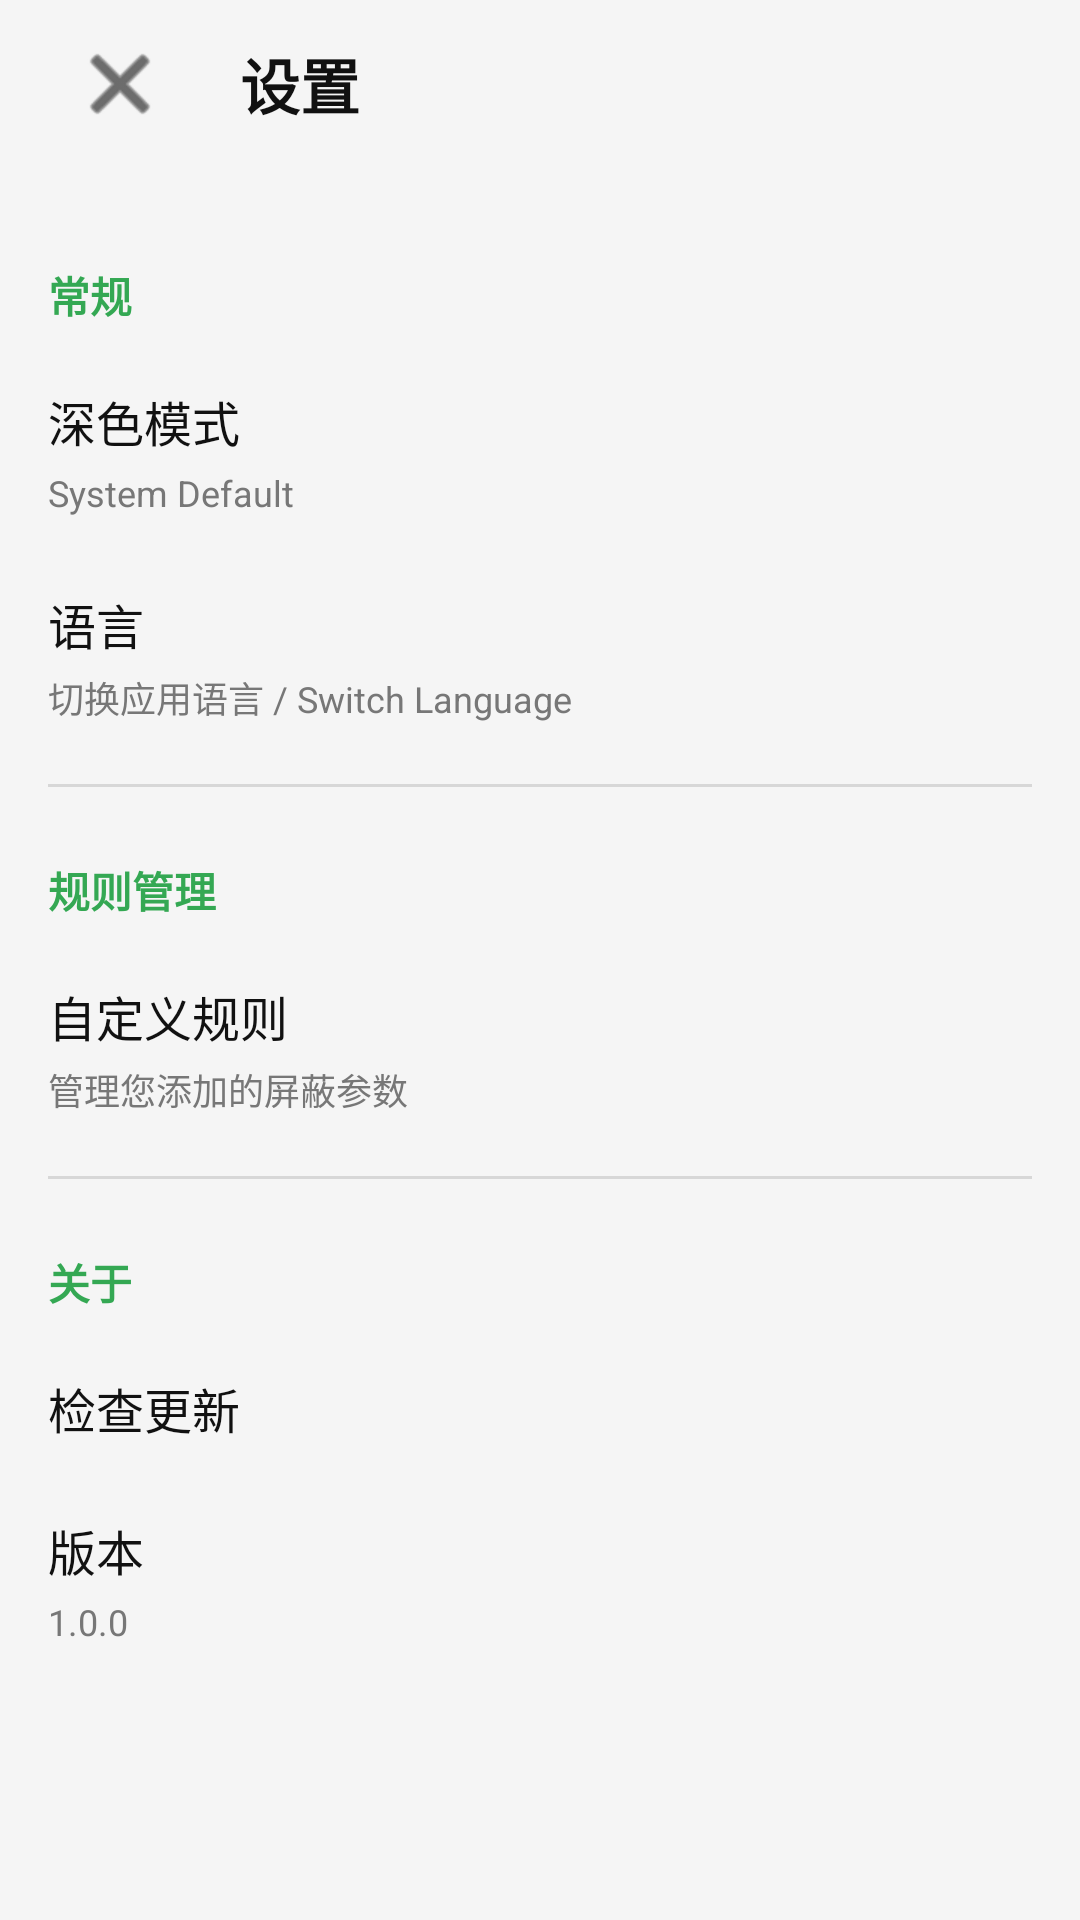

Named icons in this screenshot (1080x1920) and their bounding boxes, (x1,y1,x2,y2):
取消: (90,54,150,114)
